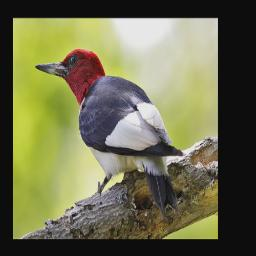Woodpecker: (36, 50, 183, 220)
